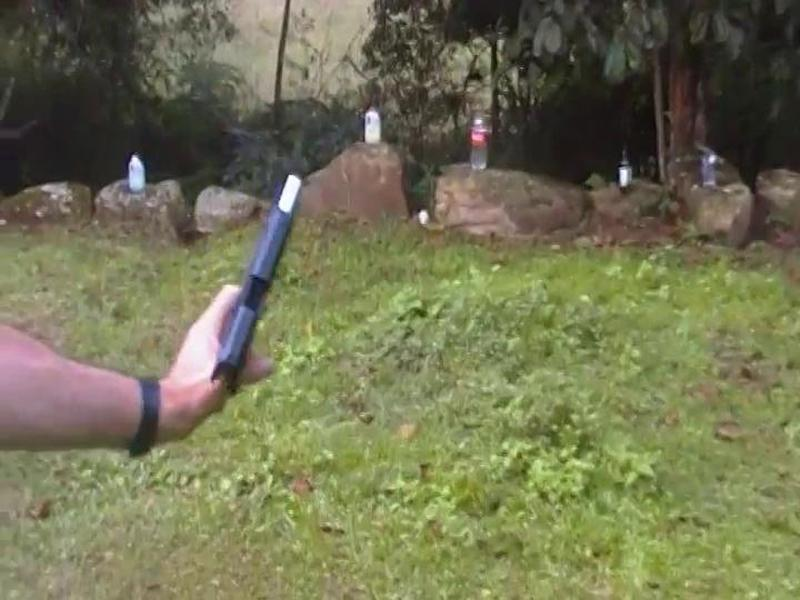Pistola: (133, 201, 319, 388)
